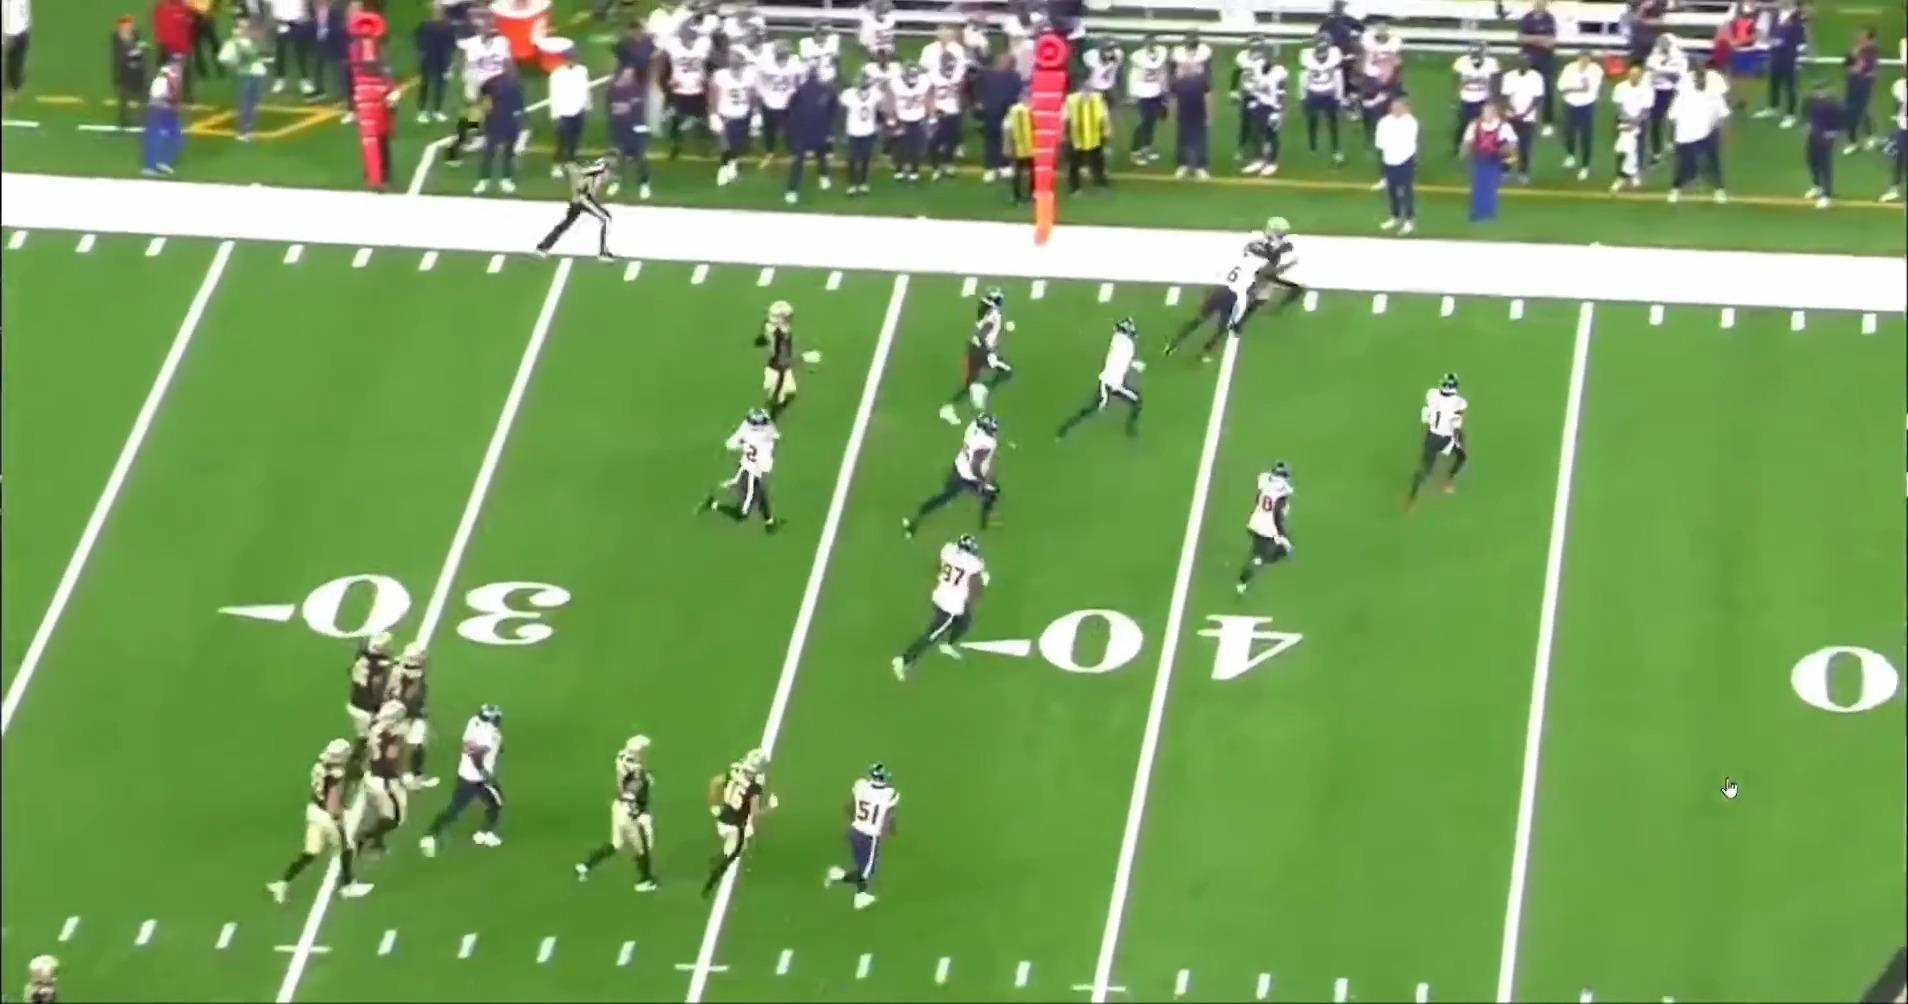player: (260, 714, 369, 920), (565, 721, 677, 895), (1154, 241, 1276, 376), (886, 530, 994, 682), (421, 695, 519, 857), (907, 414, 1019, 545), (1057, 316, 1156, 449), (348, 701, 427, 866), (934, 290, 1024, 432), (831, 755, 907, 918), (1407, 368, 1483, 512), (701, 414, 783, 544), (1225, 461, 1295, 603), (707, 747, 782, 874), (746, 302, 809, 426), (394, 639, 436, 797), (1249, 213, 1311, 308), (342, 630, 396, 736)
ref: (523, 145, 625, 262)
